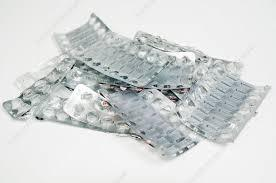pill_Strip: (55, 14, 167, 85), (134, 31, 241, 88), (179, 75, 269, 142), (108, 91, 196, 156), (185, 75, 269, 140), (73, 32, 173, 86), (185, 86, 268, 142), (3, 54, 74, 119), (34, 83, 123, 134), (134, 31, 240, 68), (139, 89, 198, 147), (63, 84, 131, 133), (216, 86, 270, 141), (139, 89, 197, 140), (56, 29, 136, 62), (172, 61, 239, 100), (62, 61, 141, 91), (34, 84, 87, 126), (55, 14, 113, 52), (135, 31, 208, 61), (176, 70, 240, 104), (53, 13, 109, 51), (34, 96, 98, 129), (177, 72, 225, 115), (54, 14, 110, 50), (64, 61, 138, 88), (63, 61, 131, 88), (135, 31, 204, 55), (145, 57, 194, 88), (14, 58, 61, 90), (147, 57, 194, 88), (172, 71, 216, 102), (192, 57, 242, 84), (75, 62, 130, 86), (148, 59, 193, 87), (193, 57, 242, 82), (62, 60, 104, 89), (139, 89, 176, 118), (62, 67, 97, 89), (207, 57, 242, 75), (14, 72, 40, 91), (168, 88, 189, 101), (159, 90, 179, 102)
